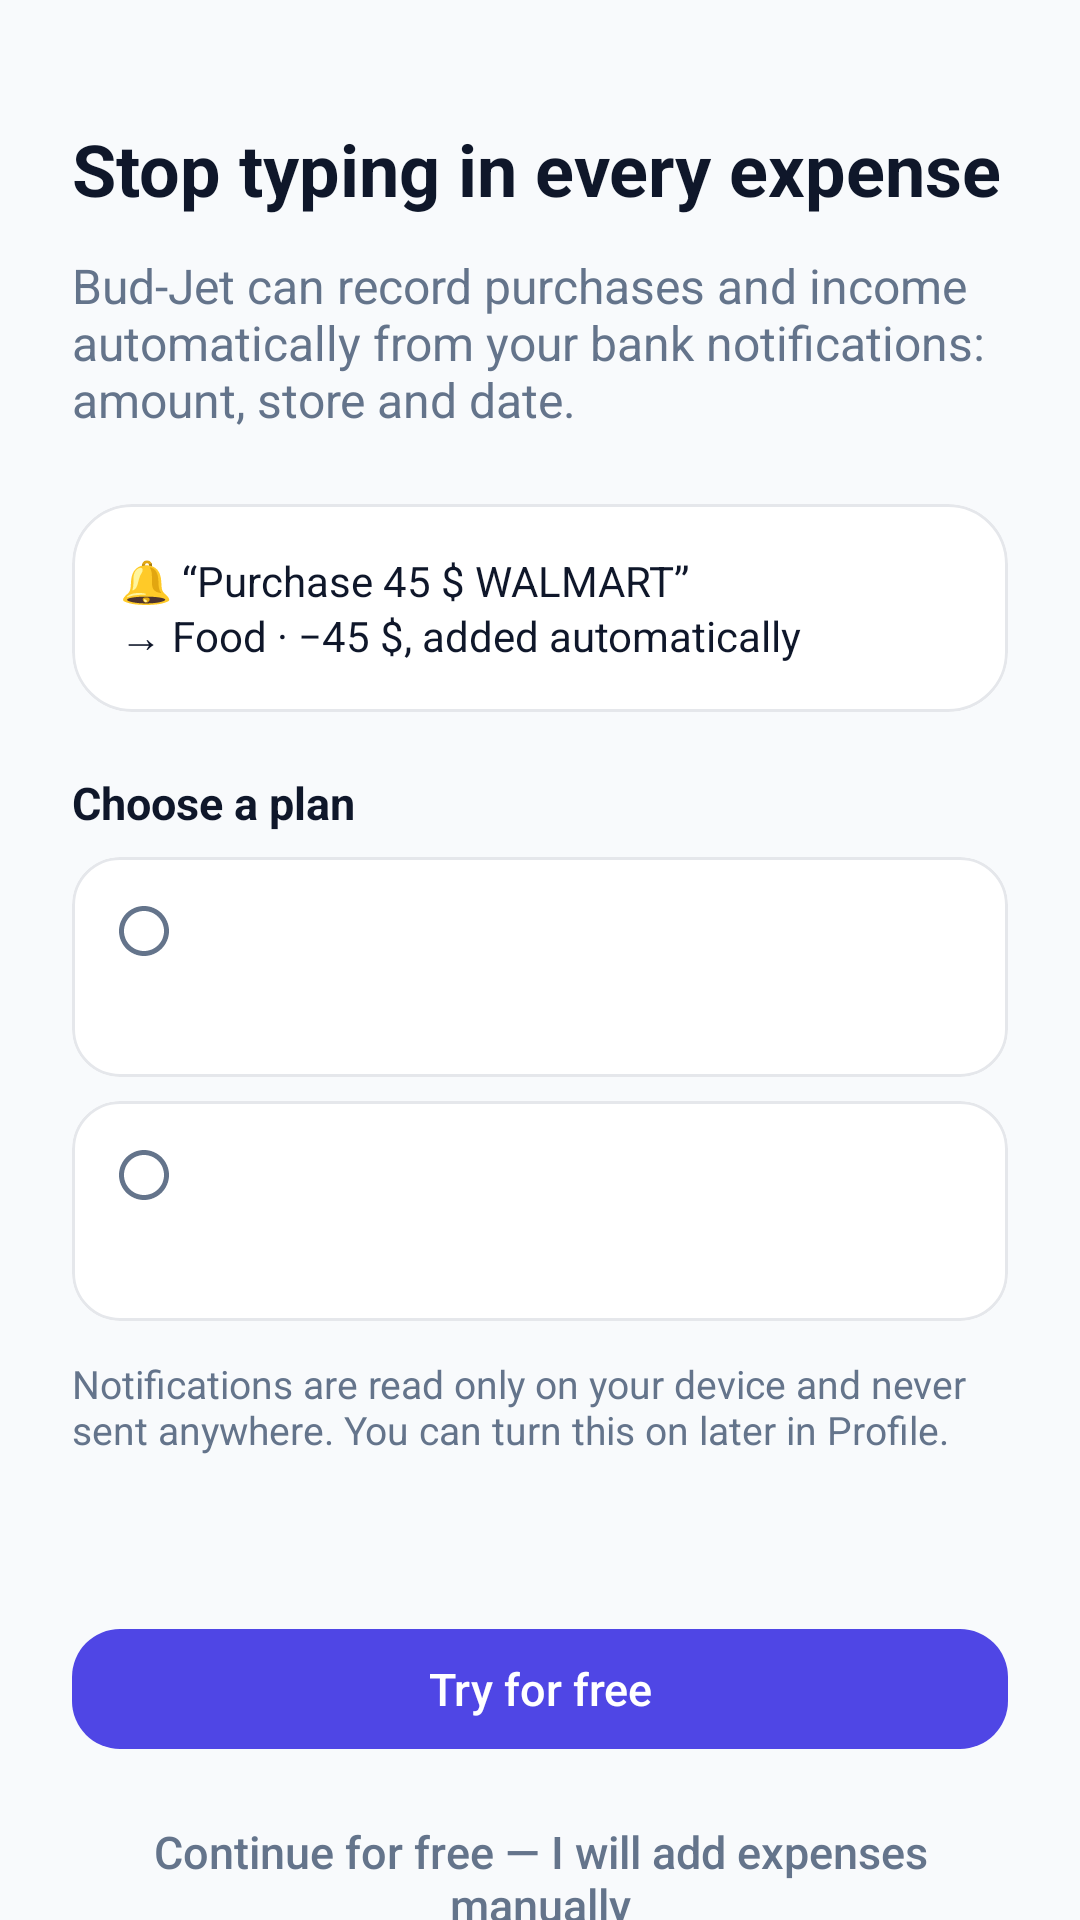

Screen size 1080x1920. Icon name, then its center in pixels as [x,y]:
radio off: [144,931], [144,1175]
